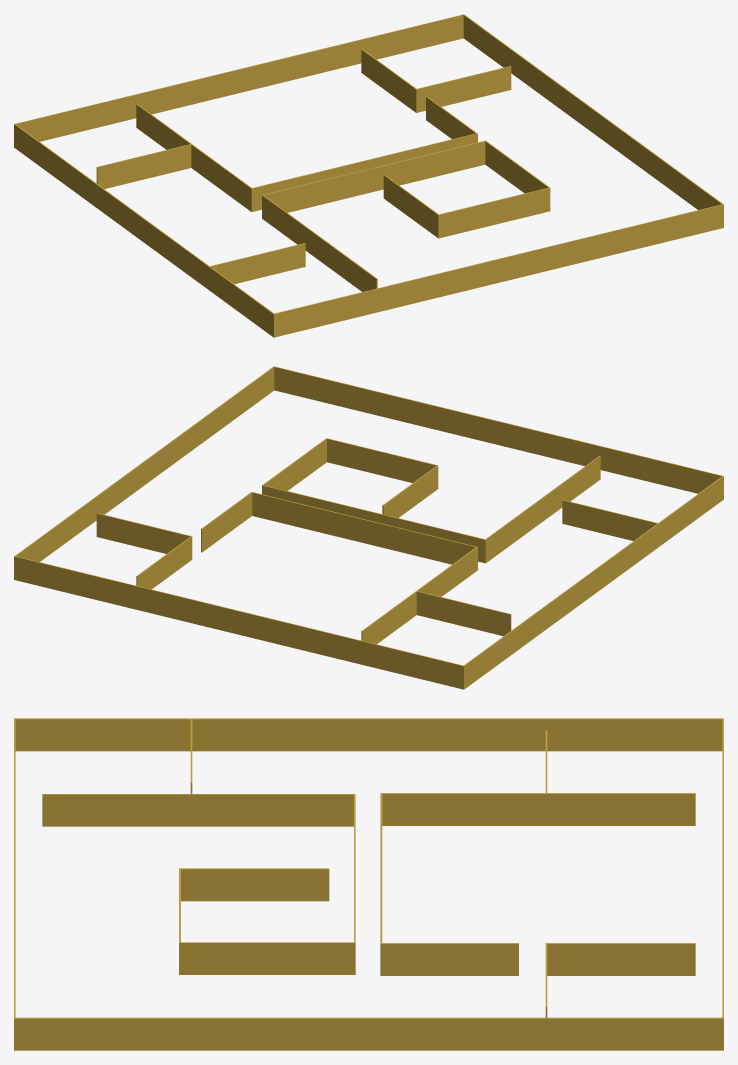
File: root_home_walls.dae
3 renders of one model, top to bottom at view 1: azimuth 30°, elevation 25°; view 2: azimuth 150°, elevation 25°; view 3: azimuth 270°, elevation 25°, orthographic. The views are drawn at different scales.
Visible parts, largest first — view 1: Wall1, Wall2, Wall3, Wall4; view 2: Wall1, Wall3, Wall2, Wall4; view 3: Wall1, Wall2, Wall3, Wall4.
Boxes of the visible parts, x1,y1,x2,y2 form: Wall1: [14, 14, 723, 337]; Wall2: [262, 140, 550, 291]; Wall3: [96, 96, 477, 211]; Wall4: [361, 49, 511, 112]; Wall1: [14, 366, 723, 689]; Wall3: [201, 492, 511, 644]; Wall2: [262, 438, 600, 563]; Wall4: [96, 513, 192, 589]; Wall1: [14, 718, 723, 1050]; Wall2: [42, 794, 355, 974]; Wall3: [380, 730, 695, 975]; Wall4: [545, 943, 695, 1017].
Bounding box in the file's own units: 40.2 × 40.2 × 2.
